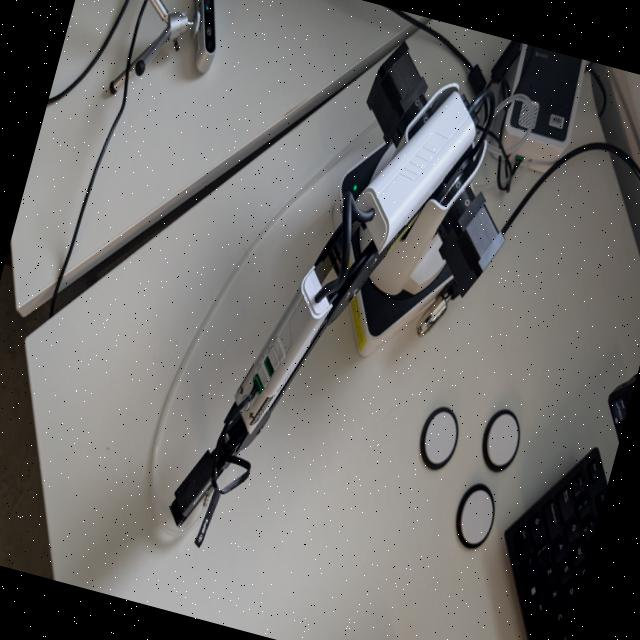Robot-end-effector-HF8z: (159, 438, 230, 545)
